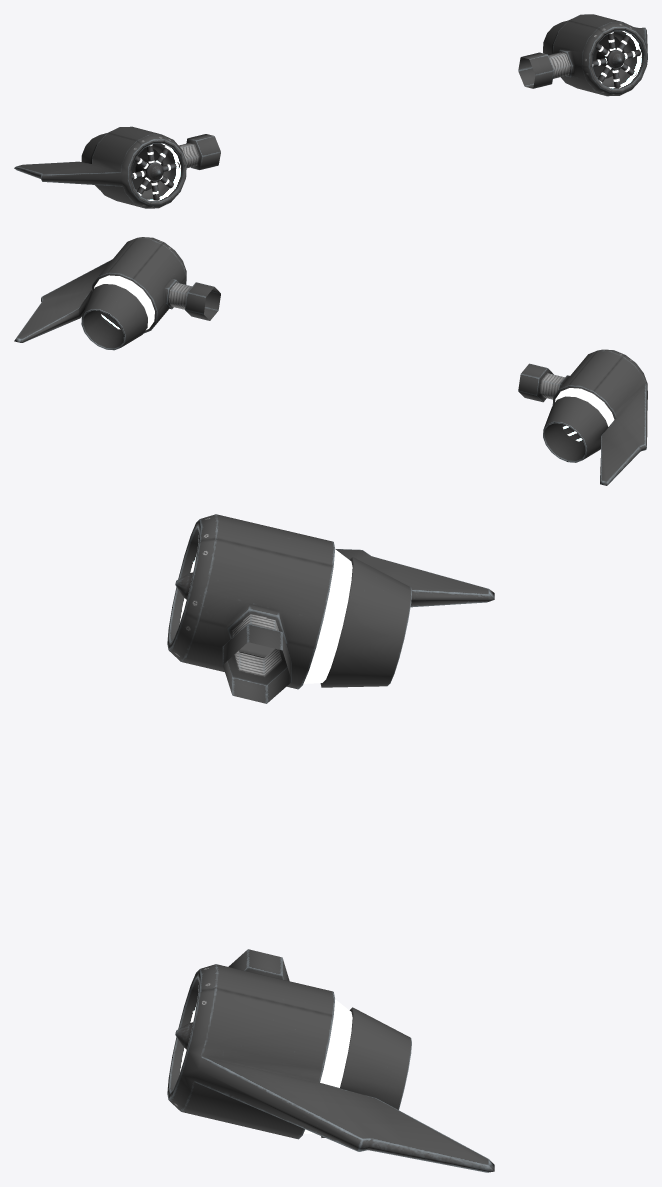
File: Spaceship_jet_mdl.fbx
3 renders of one model, top to bottom at view 1: azimuth 30°, elevation 25°; view 2: azimuth 150°, elevation 25°; view 3: azimuth 270°, elevation 25°, orthographic. The views are drawn at different scales.
Visible parts, largest first — view 1: Spaceship_jet_mdl; view 2: Spaceship_jet_mdl; view 3: Spaceship_jet_mdl.
Part boxes in pixels (left/top/right/bottom): Spaceship_jet_mdl: left=14, top=14, right=647, bottom=208; Spaceship_jet_mdl: left=14, top=237, right=647, bottom=485; Spaceship_jet_mdl: left=167, top=514, right=494, bottom=1172.
Bounding box in the file's own units: 697 × 88.34 × 163.
